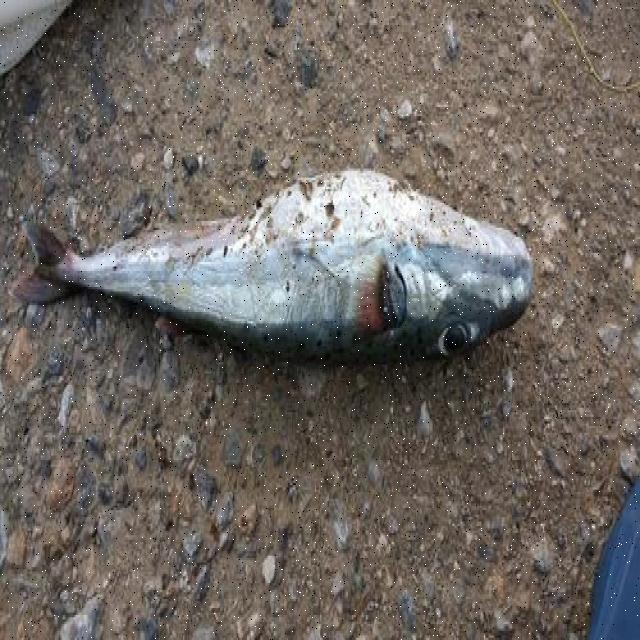Balik: (12, 171, 532, 359)
